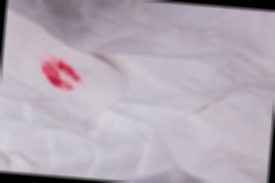lipstick: (41, 56, 86, 91)
